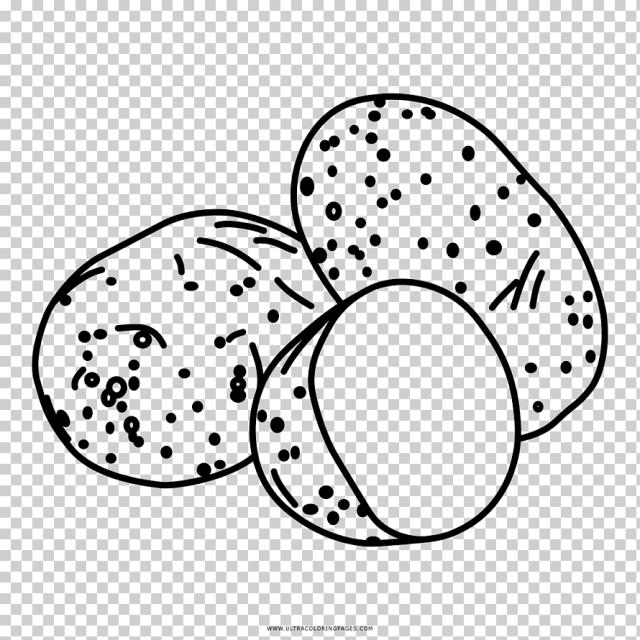papa: (251, 273, 551, 562)
